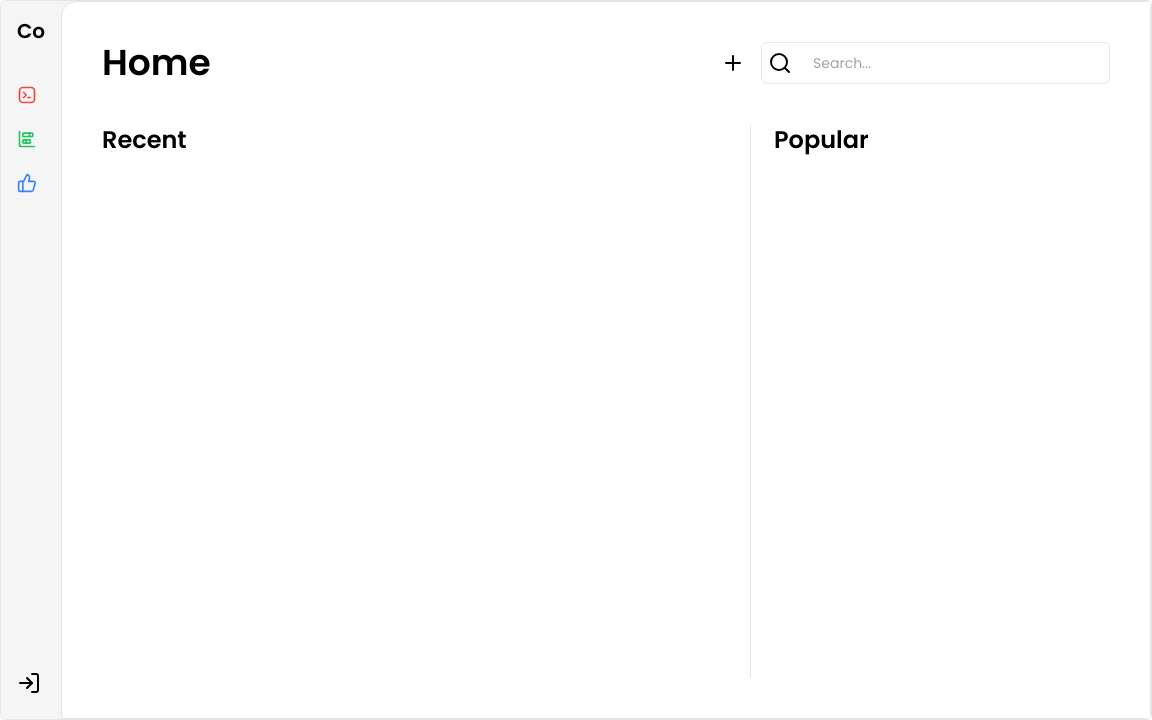
Test: User Authentication › Auth: Sign up › should not allow signing up with an already existing user
The width and height of the screenshot is (1152, 720).
Click the link with test id "login-link".
click(31, 683)  # box top-left (17, 663), bottom-right (45, 703)
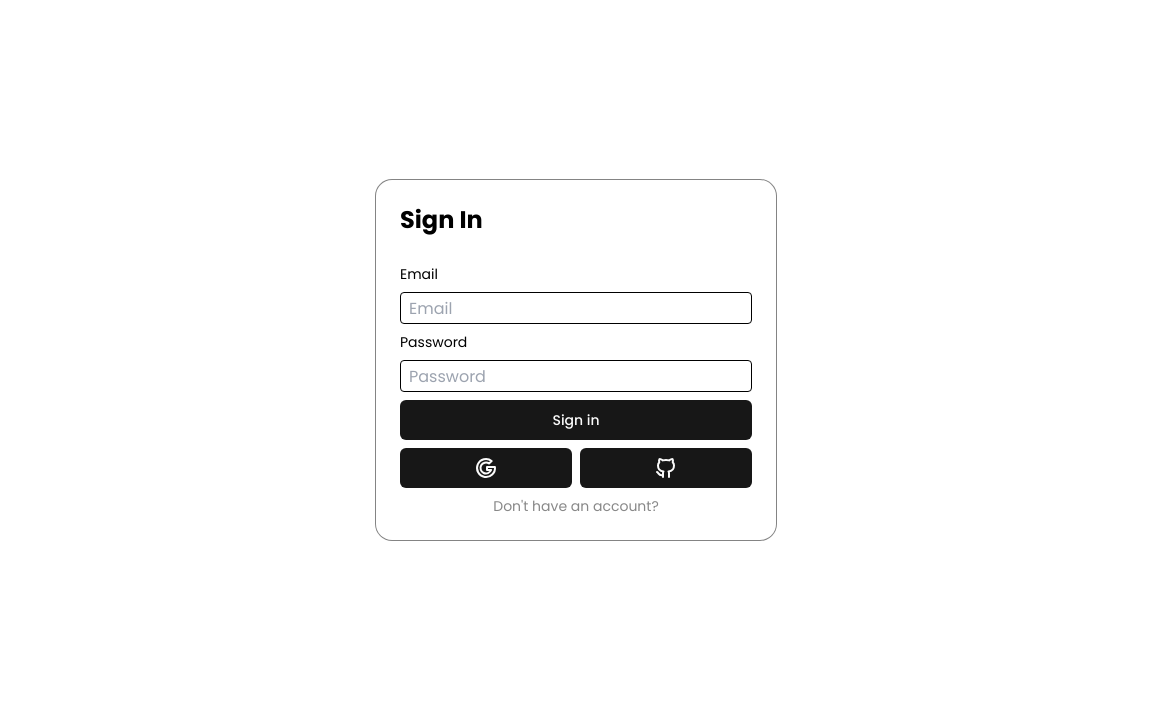
Click the link with test id "signup-link".
click(576, 506)  # box top-left (493, 496), bottom-right (659, 516)
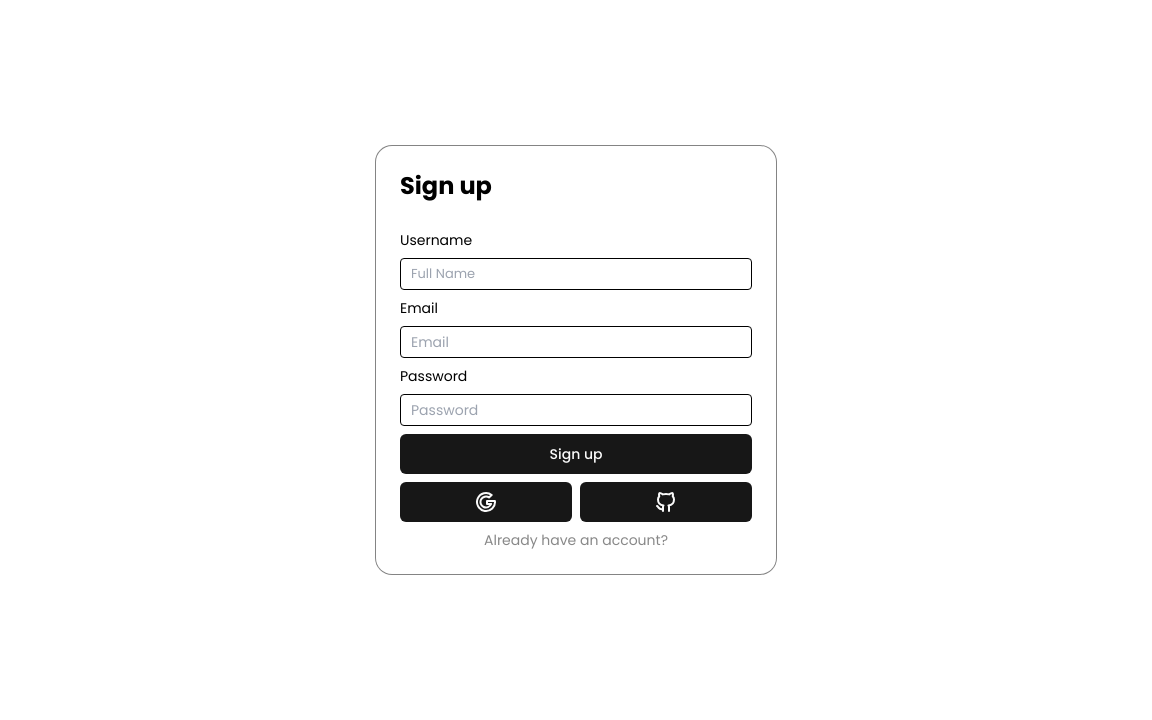
Type "John Smith" into the field with test id "signup-name-input".
click(576, 274); type("John Smith")  # box top-left (400, 258), bottom-right (752, 290)
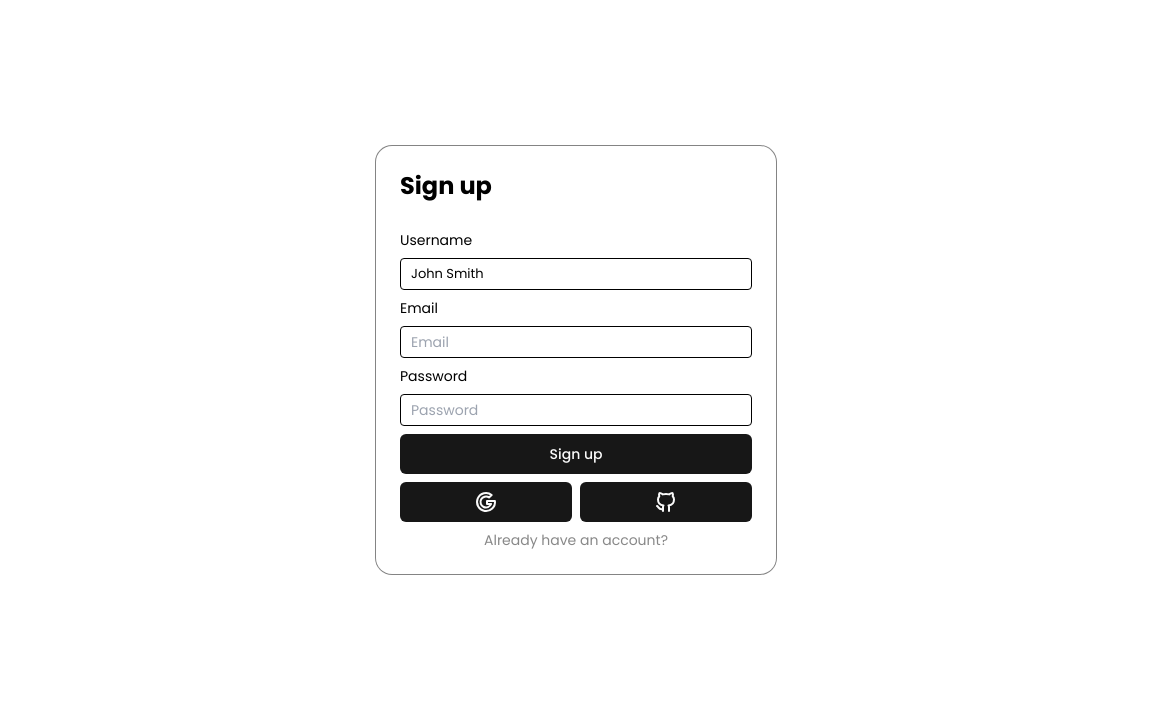
Type "john@email.com" into the field with test id "signup-email-input".
click(576, 342); type("john@email.com")  # box top-left (400, 326), bottom-right (752, 358)
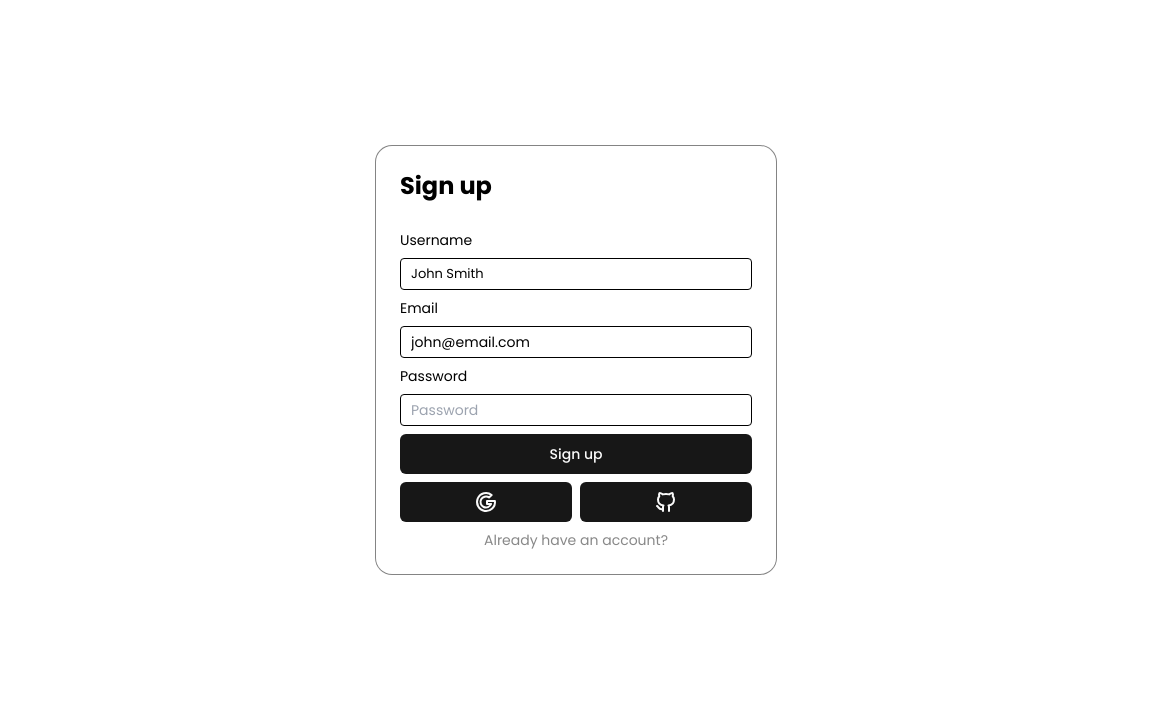
Type "freepass1" into the password field with test id "signup-password-input".
click(576, 410); type("freepass1")  # box top-left (400, 394), bottom-right (752, 426)
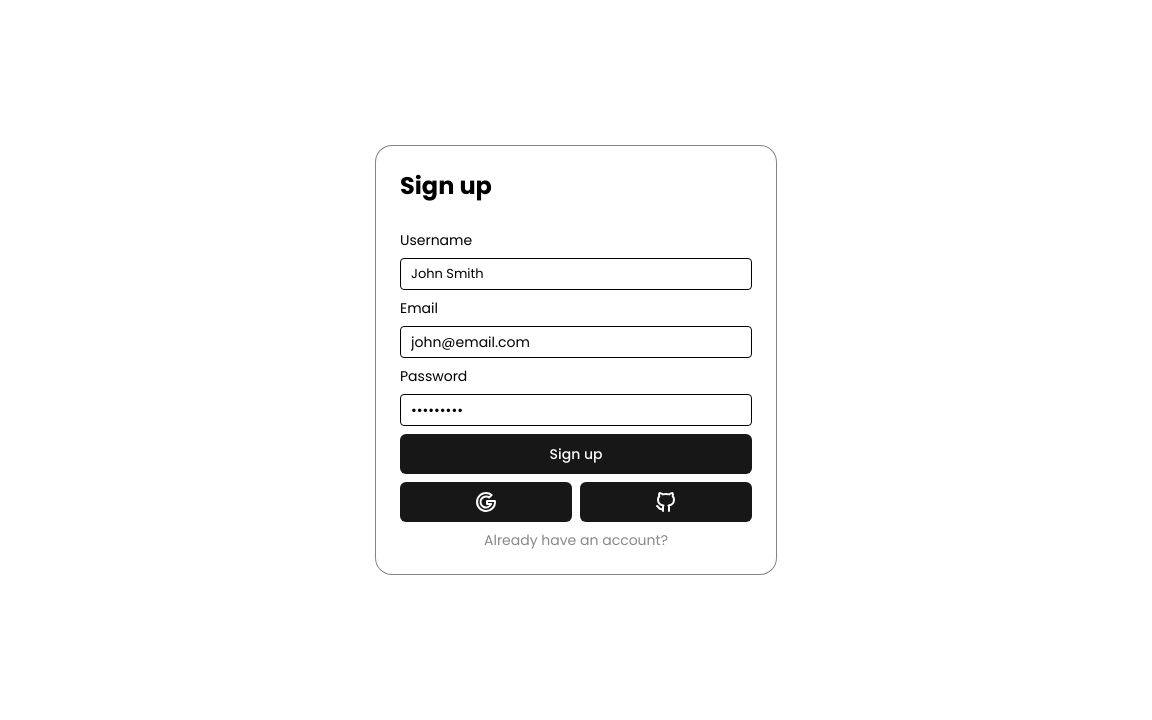
Click the button with test id "signup-submit".
click(576, 454)  # box top-left (400, 434), bottom-right (752, 474)
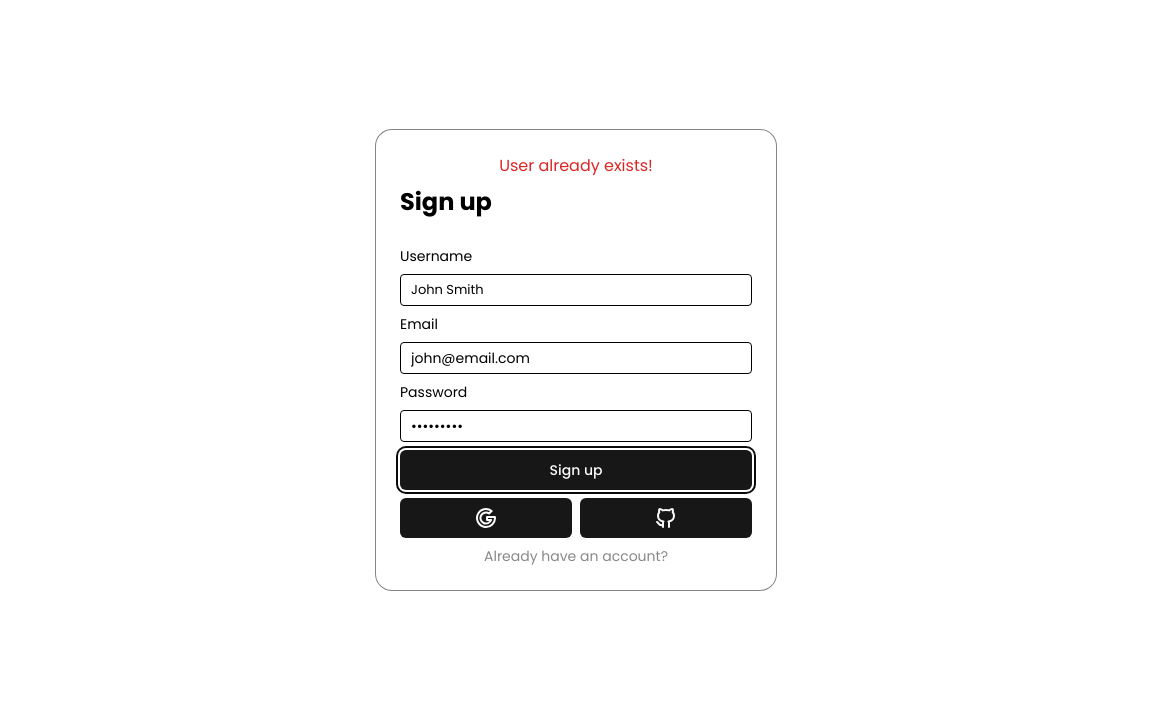
Now the text "User already exists!" is shown, box top-left (499, 154), bottom-right (653, 178)
Now the text with test id "signup-error-message" reads "User already exists!", box top-left (499, 154), bottom-right (653, 177)
